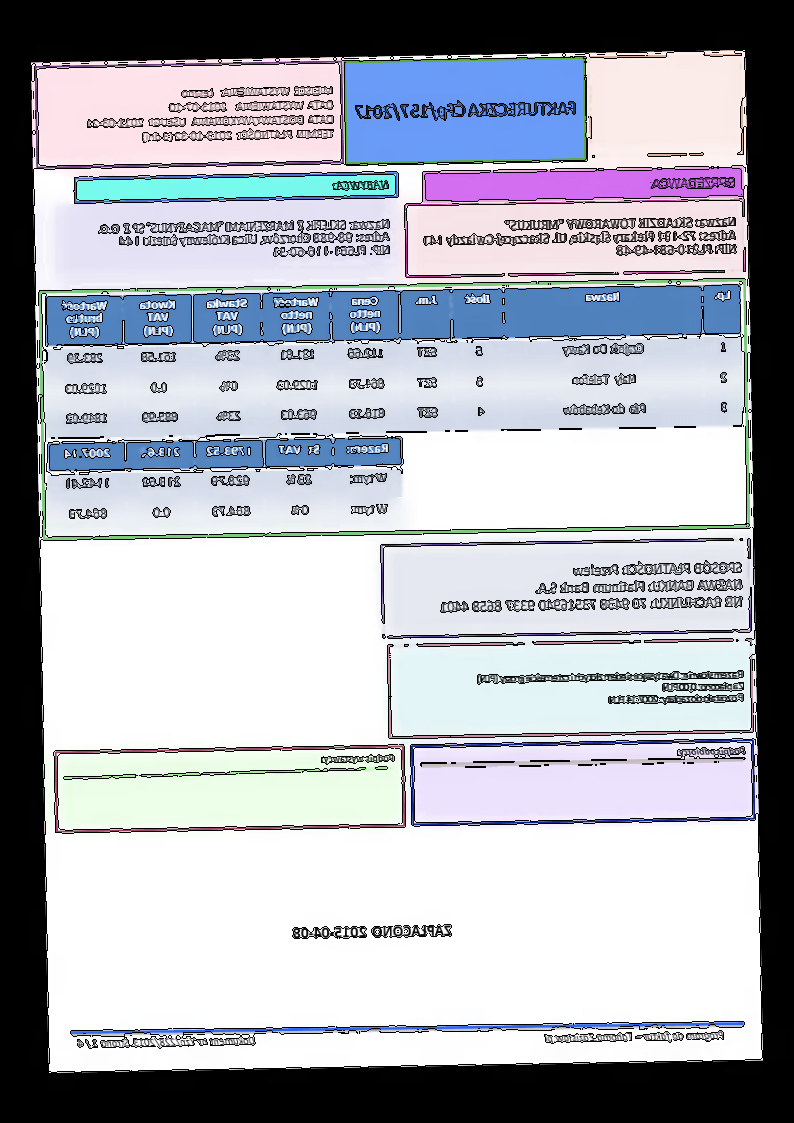Table: (47, 281, 746, 437), (46, 434, 406, 534)
TextBox: (436, 556, 748, 617), (82, 81, 340, 149), (422, 209, 740, 264), (95, 213, 394, 265), (472, 665, 747, 710), (352, 92, 584, 125), (542, 1022, 730, 1050), (289, 917, 459, 944), (71, 1032, 258, 1053), (648, 172, 741, 191), (674, 740, 749, 762), (319, 749, 402, 768), (333, 176, 392, 195)
